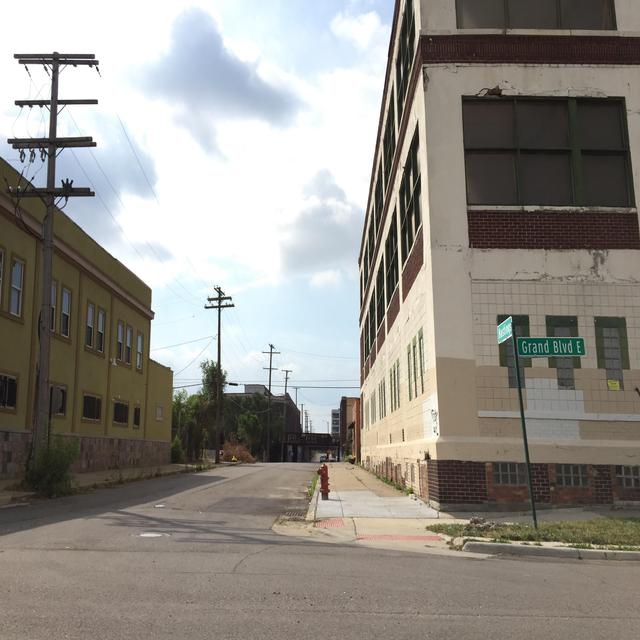Manhole: (131, 532, 169, 537)
Vegetation: (171, 357, 267, 474), (4, 415, 124, 496), (270, 402, 282, 446)
